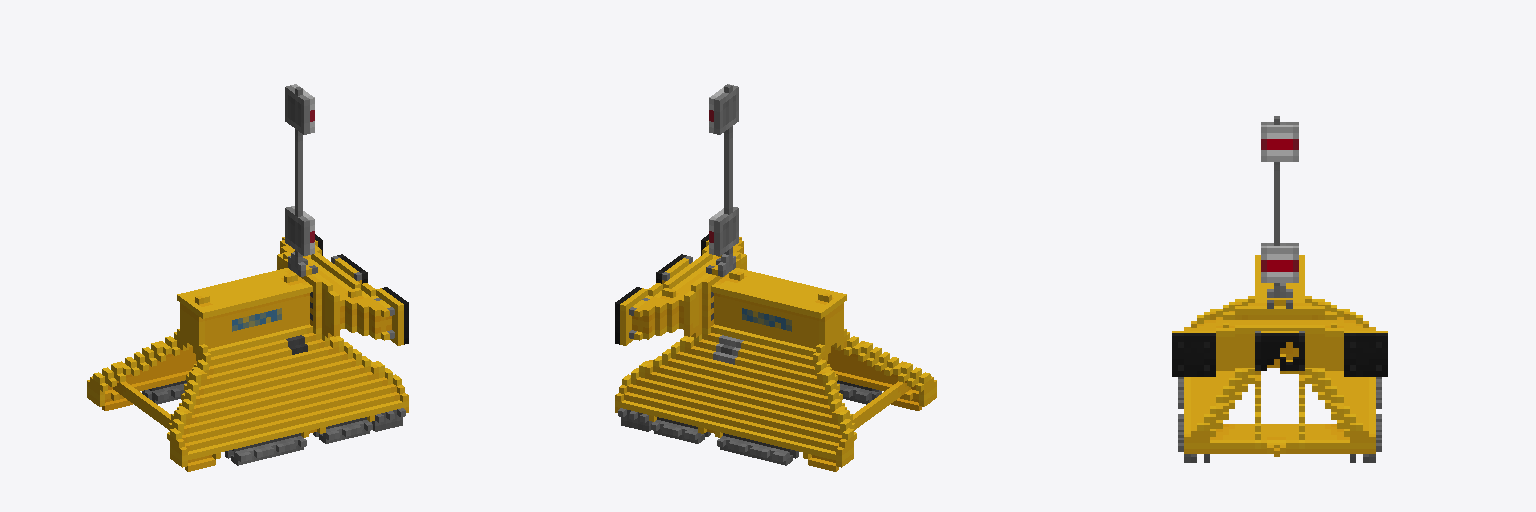
The picture shows the model from 3 angles: view 1: azimuth 30°, elevation 25°; view 2: azimuth 150°, elevation 25°; view 3: azimuth 270°, elevation 25°; orthographic projection.
Parts seen in each view (by area): view 1: FRAME; view 2: FRAME; view 3: FRAME.
Boxes of the visible parts, x1,y1,x2,y2 form: FRAME: [87, 84, 408, 471]; FRAME: [615, 84, 936, 471]; FRAME: [1172, 116, 1387, 462].
Size of the model in its own units: 2.75 by 3.44 by 2.12.
1 materials, 1 textured.